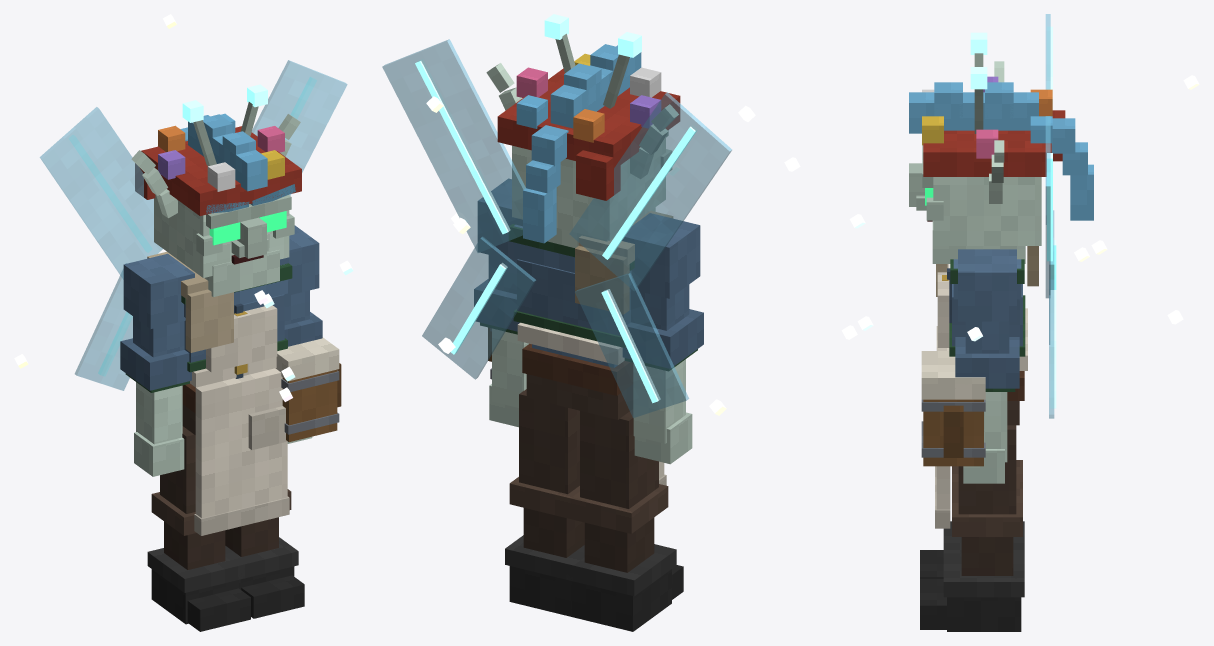
File: fairy_aubergiste.glb
3 renders of one model, left to right at view 1: azimuth 30°, elevation 25°; view 2: azimuth 150°, elevation 25°; view 3: azimuth 270°, elevation 25°, orthographic. The views are drawn at different scales.
Visible parts, largest first — view 1: Torso, Head, ArmR, LegR, LegL, HandL, ArmL; view 2: Torso, Head, LegR, ArmR, LegL, ArmL; view 3: Head, LegL, ArmL, Torso, HandL, LegR.
Part boxes in pixels (x1,y1,x2,y2): Torso: (14, 14, 353, 535); Head: (131, 84, 301, 297); ArmR: (120, 253, 194, 476); LegR: (147, 426, 250, 631); LegL: (225, 489, 304, 618); HandL: (275, 337, 341, 442); ArmL: (280, 225, 322, 443); Torso: (382, 39, 755, 485); Head: (486, 14, 680, 247); LegR: (565, 409, 683, 631); ArmR: (622, 213, 703, 464); LegL: (505, 389, 584, 616); ArmL: (474, 178, 528, 427); Head: (909, 32, 1093, 263); LegL: (920, 425, 1024, 631); ArmL: (955, 249, 1019, 483); Torso: (784, 14, 1199, 528); HandL: (921, 351, 985, 466); LegR: (920, 460, 1024, 578).
Bounding box in the file's own units: 0.7287 × 1.11 × 0.7622.
48 materials, 48 textured.
